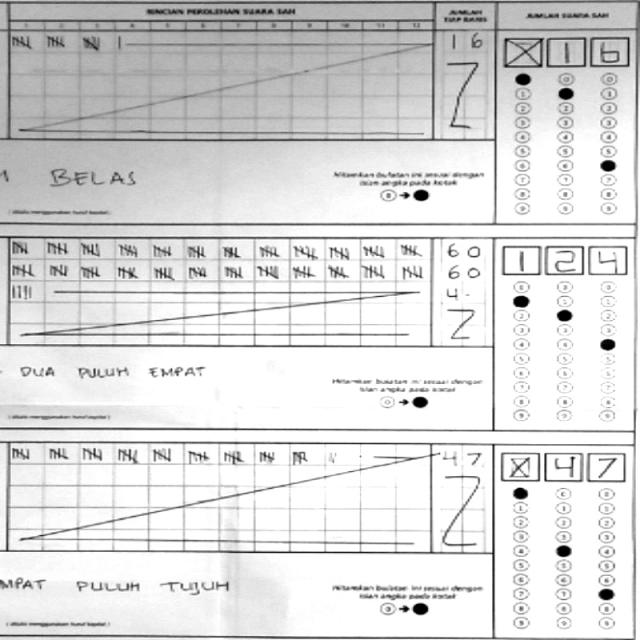Suara: (500, 236, 630, 278), (498, 34, 630, 67), (502, 449, 627, 482)
